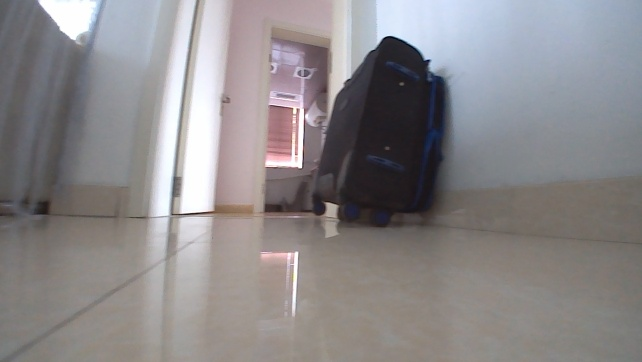door_anno: (151, 0, 238, 221)
